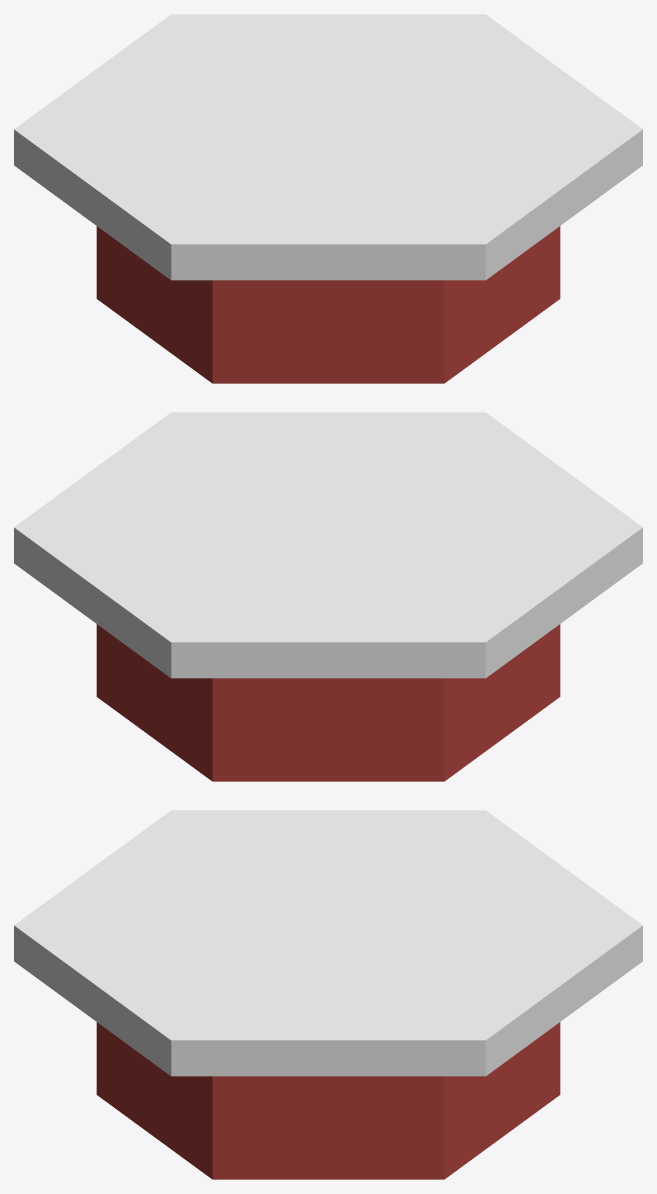
The model's file is cleaner_lod2.glb.
3 views of the same model, one above another, from view 1: azimuth 30°, elevation 25°; view 2: azimuth 150°, elevation 25°; view 3: azimuth 270°, elevation 25° (orthographic).
Parts seen in each view (by area): view 1: cleaner_lod2; view 2: cleaner_lod2; view 3: cleaner_lod2.
Boxes of the visible parts, x1,y1,x2,y2 form: cleaner_lod2: [14, 14, 642, 383]; cleaner_lod2: [14, 412, 642, 781]; cleaner_lod2: [14, 810, 642, 1179].
Size of the model in its own units: 0.1645 by 0.0565 by 0.19.
